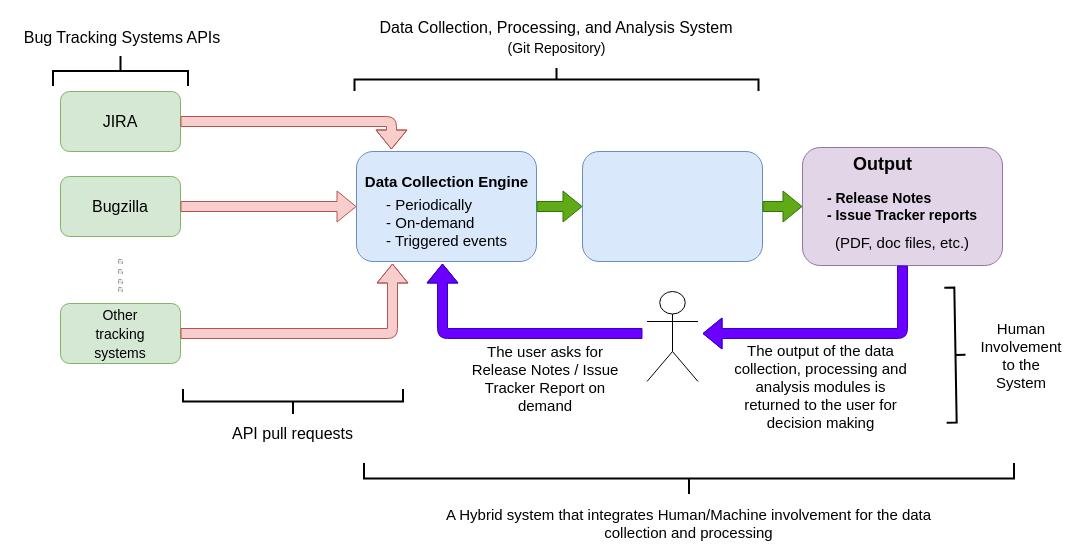
This 1084x558 diagram has some shape labels left out. Grey dashed boxes stand in for pictures. Here are the shapes that lost their labels. From the top down, the centre of each, then its label:
At point (672, 206): "Data Processing and Analysis Engine".
At point (672, 336): "Actor".
